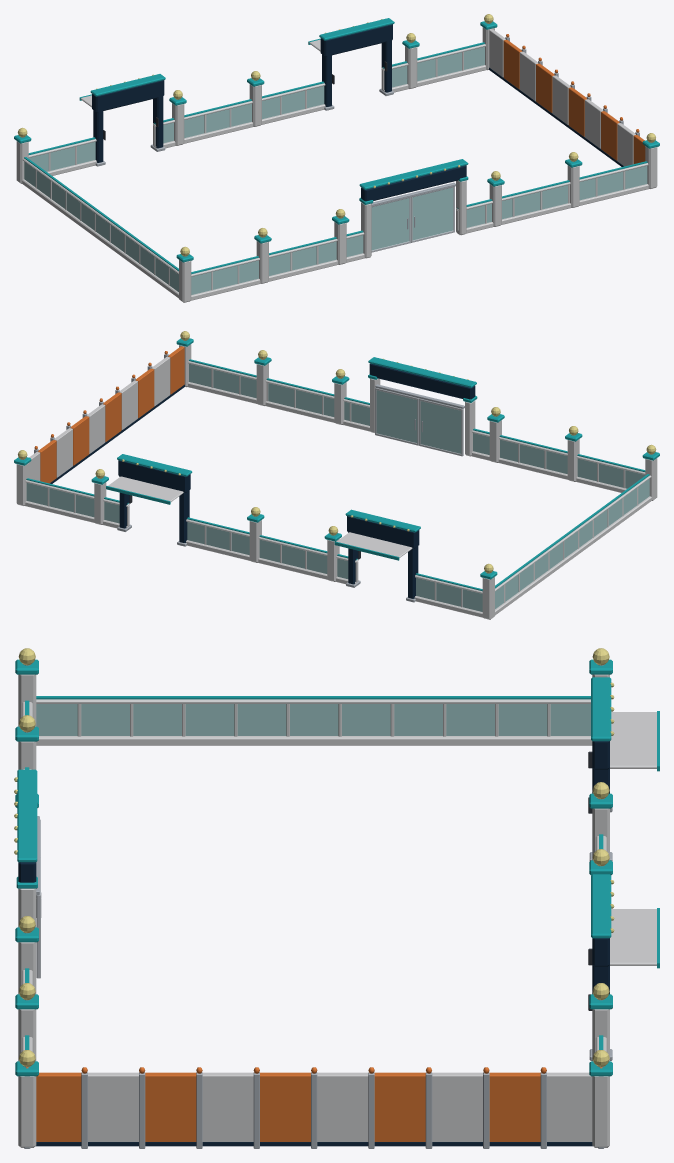
The model's file is skyport-terminal.glb.
3 renders of one model, top to bottom at view 1: azimuth 30°, elevation 25°; view 2: azimuth 150°, elevation 25°; view 3: azimuth 270°, elevation 25°, orthographic. The views are drawn at different scales.
Visible parts, largest first — view 1: sp_hall_mesh, sp_hoarding_mesh, sp_hall_doorr_mesh, sp_hall_doorl_mesh; view 2: sp_hall_mesh, sp_hoarding_mesh, sp_hall_doorl_mesh, sp_hall_doorr_mesh; view 3: sp_hall_mesh, sp_hoarding_mesh.
Part boxes in pixels (x1,y1,x2,y2): sp_hall_mesh: [14, 14, 659, 302]; sp_hoarding_mesh: [489, 29, 645, 166]; sp_hall_doorr_mesh: [411, 186, 454, 242]; sp_hall_doorl_mesh: [371, 197, 410, 252]; sp_hall_mesh: [14, 331, 659, 619]; sp_hoarding_mesh: [28, 346, 184, 483]; sp_hall_doorl_mesh: [419, 398, 463, 456]; sp_hall_doorr_mesh: [375, 387, 418, 445]; sp_hall_mesh: [14, 648, 659, 1147]; sp_hoarding_mesh: [24, 1067, 604, 1148].
Size of the model in its own units: 27.16 by 3.93 by 18.01.
